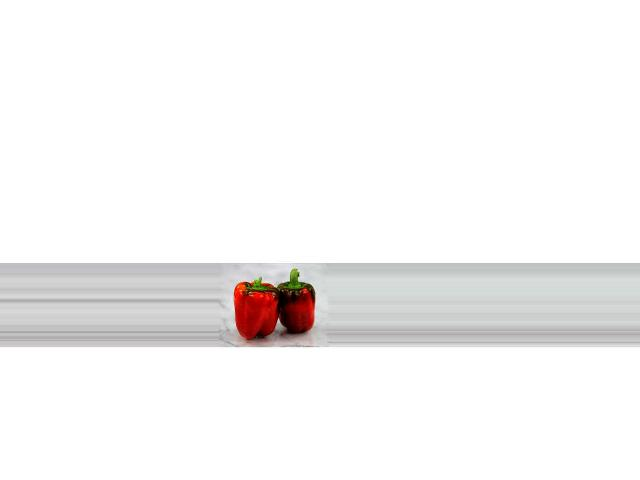bell_pepper: (226, 273, 278, 339)
